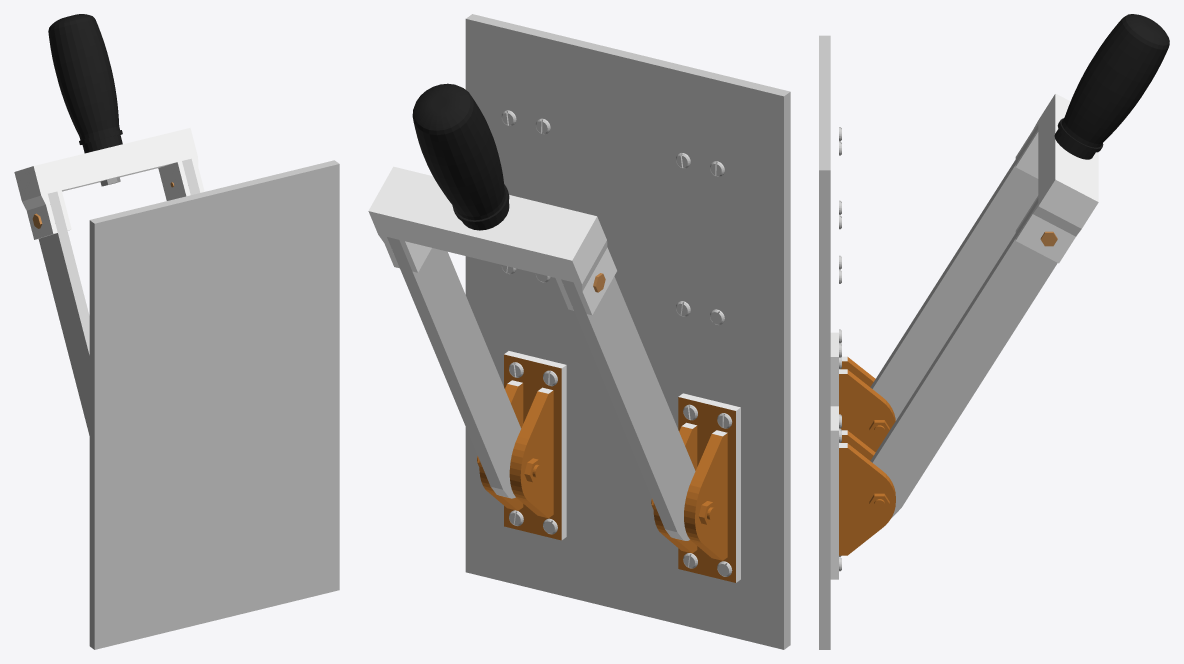
3 views of the same model, side by side, from view 1: azimuth 30°, elevation 25°; view 2: azimuth 150°, elevation 25°; view 3: azimuth 270°, elevation 25° (orthographic). The views are drawn at different scales.
Visible parts, largest first — view 1: skp8923_001, Component4_001, Component3_001; view 2: skp8923_001, Component4_001, Component3_001, Component3_002, Component2_002, Component2_001; view 3: Component4_001, Component3_002, Component3_001, skp8923_001, Component2_002, Component2_001.
Boxes of the visible parts, x1,y1,x2,y2 form: skp8923_001: (89,160,339,649); Component4_001: (14,14,204,239); Component3_001: (38,191,89,435); skp8923_001: (465,14,790,649); Component4_001: (368,83,616,314); Component3_001: (561,276,695,540); Component3_002: (387,237,521,498); Component2_002: (477,351,566,540); Component2_001: (651,393,740,582); Component4_001: (1015,14,1169,263); Component3_002: (870,198,1057,518); Component3_001: (870,124,1038,420); skp8923_001: (819,35,830,649); Component2_002: (830,406,895,579); Component2_001: (830,332,895,452).
Size of the model in its own units: 267 by 522 by 294.
